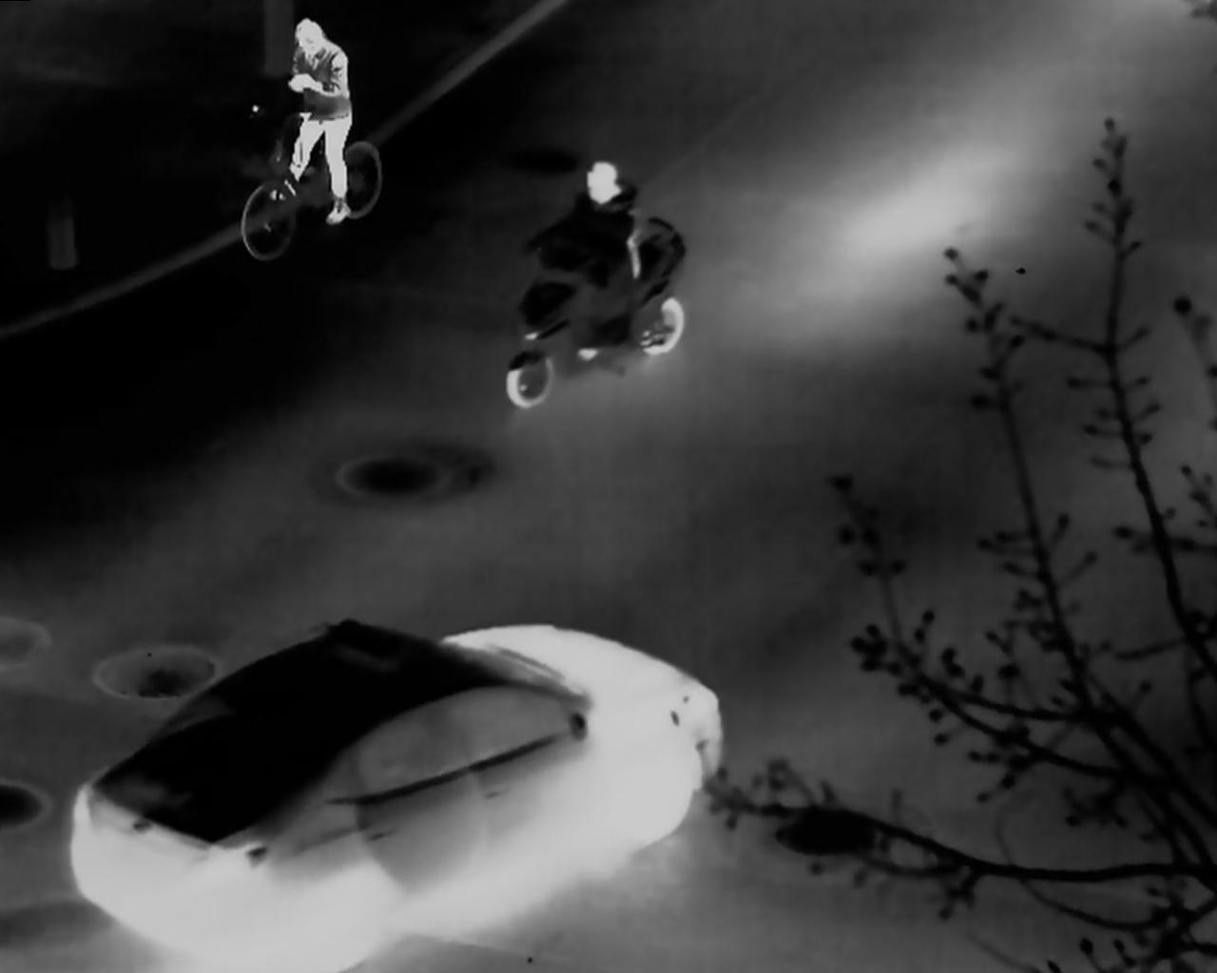person: (278, 17, 373, 225), (565, 166, 654, 341)
